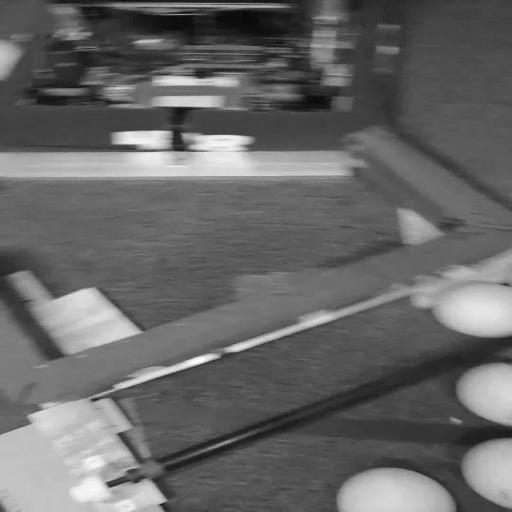fuel: (337, 468, 456, 511), (432, 282, 511, 338), (462, 438, 511, 509), (457, 363, 511, 427)
